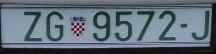-: (179, 22, 189, 29)
2: (158, 9, 177, 42)
5: (115, 10, 133, 42)
7: (136, 10, 155, 44)
9: (91, 11, 111, 42)
G: (46, 10, 64, 42)
J: (191, 10, 210, 40)
Z: (22, 10, 42, 42)
